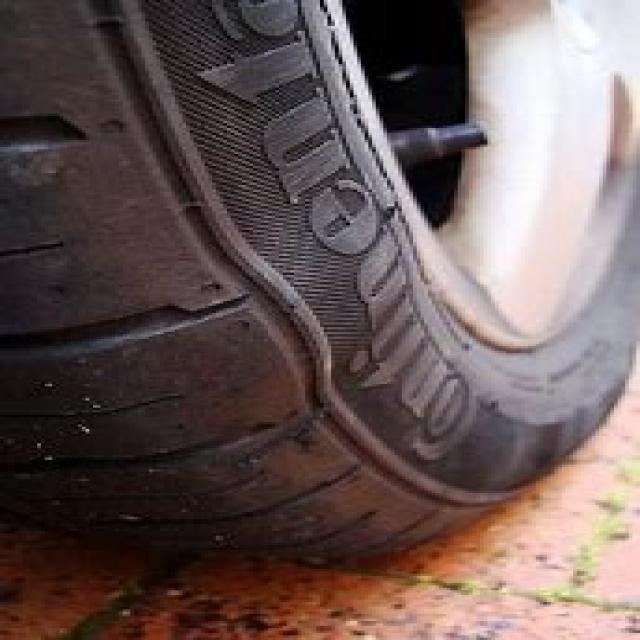Bulge: (189, 238, 385, 445)
